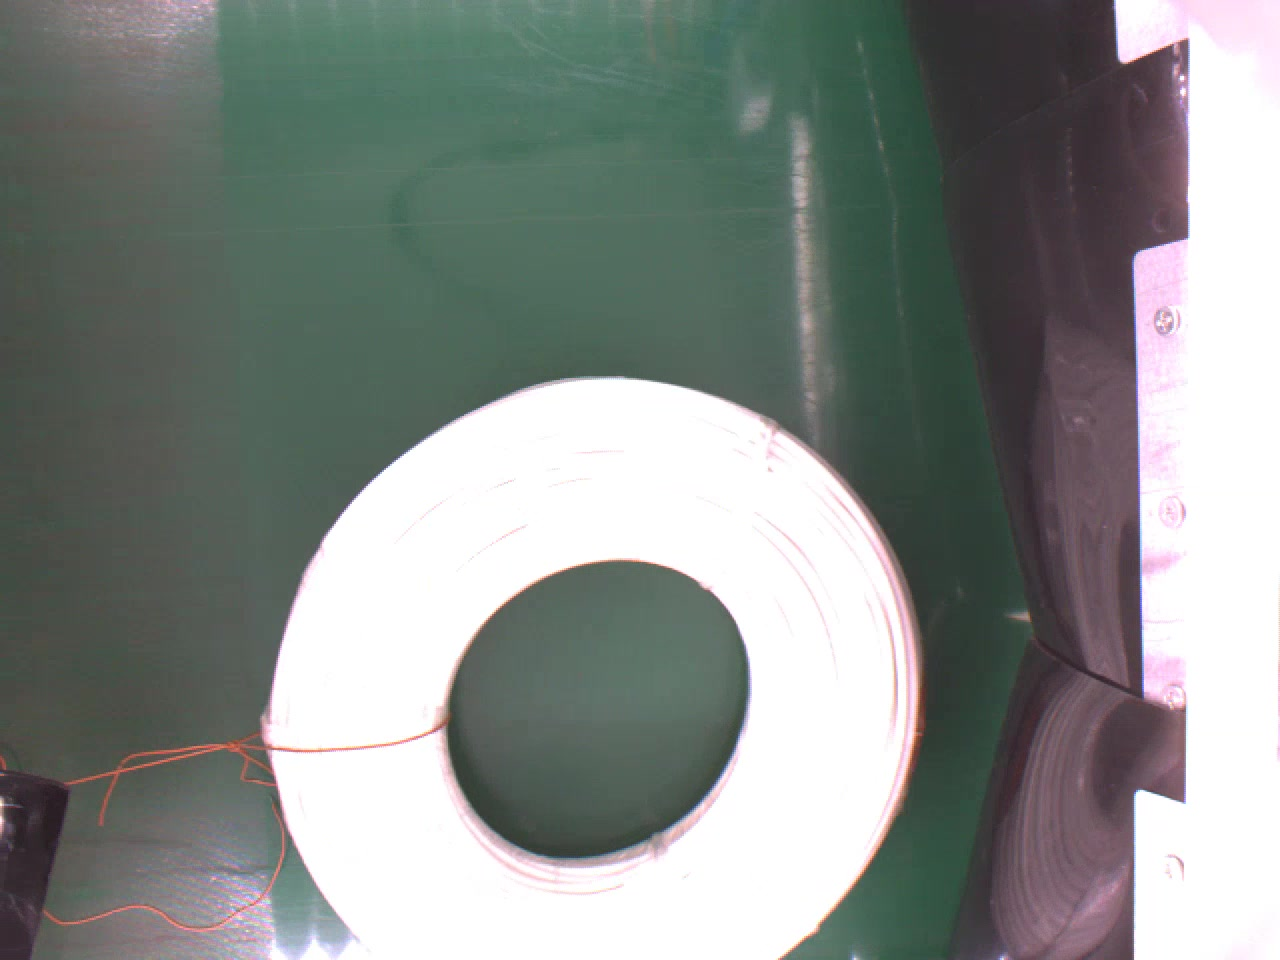white: (254, 371, 930, 960)
